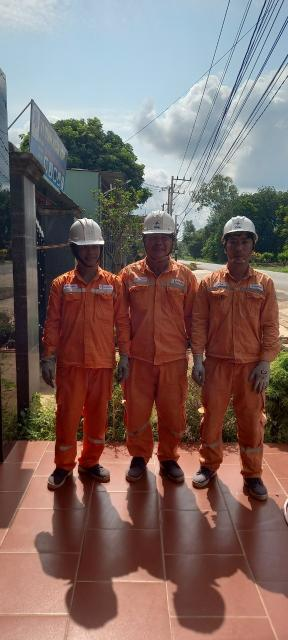gloves: (32, 350, 75, 383), (110, 350, 141, 388), (250, 359, 273, 402), (186, 354, 206, 391)
helmet: (67, 212, 117, 253), (215, 206, 267, 243), (133, 205, 180, 238)
shoes: (154, 448, 193, 490), (75, 457, 115, 491), (233, 470, 275, 502), (181, 461, 219, 490), (42, 468, 75, 495), (117, 458, 146, 486)
